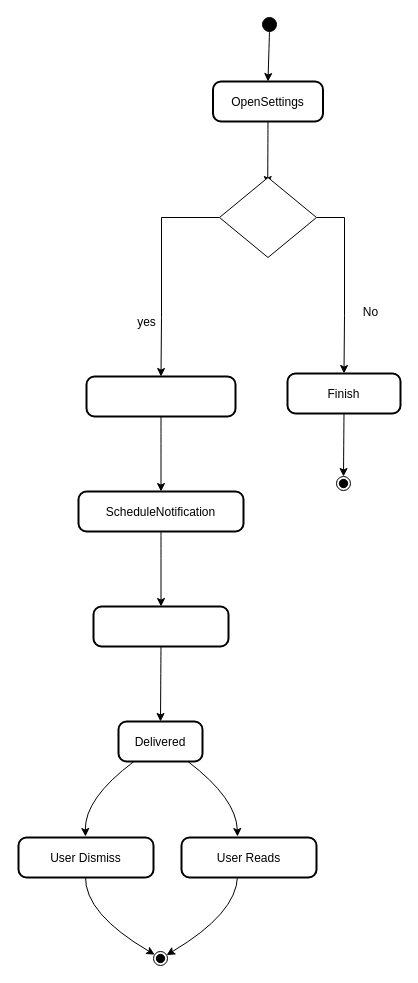
Image size: 418x983. Some labels were removed from this diagram. The shapes that lost their labels are listed below. From the top down, each one's centre as x and y in pixels, then its label:
(x=267, y=217): Enable Notifications?
(x=160, y=396): CreateNotification
(x=160, y=626): SendNotification
